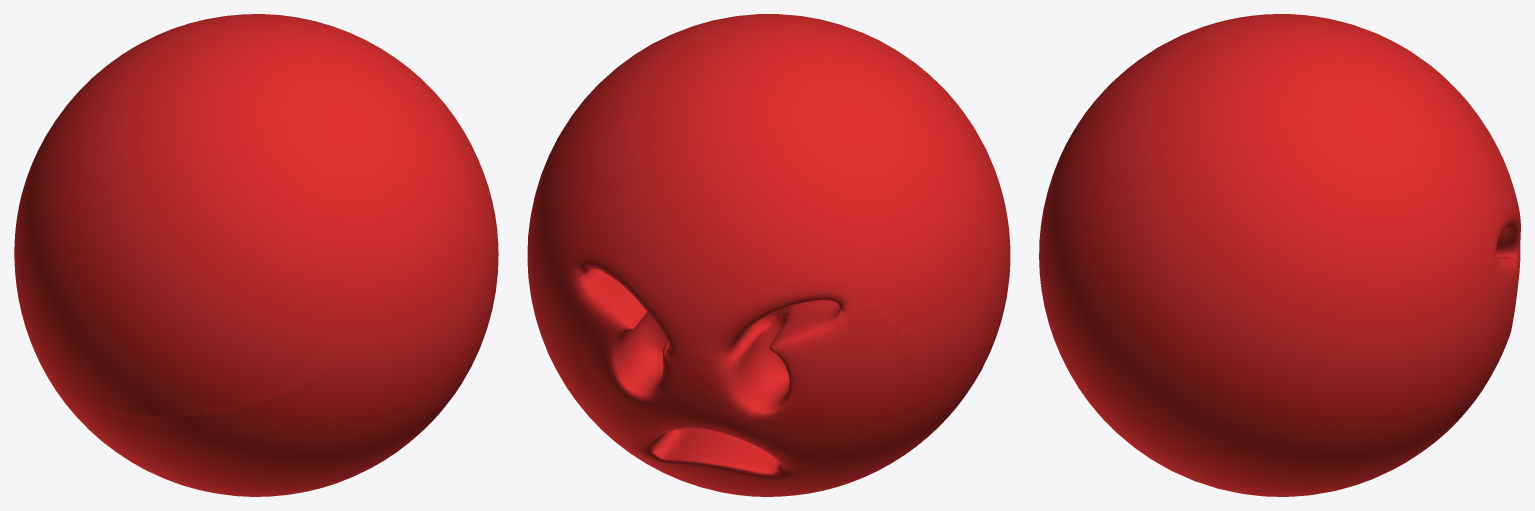
The model's file is rage 3DS.glb.
3 views of the same model, side by side, from view 1: azimuth 30°, elevation 25°; view 2: azimuth 150°, elevation 25°; view 3: azimuth 270°, elevation 25° (orthographic).
Visible parts, largest first — view 1: Group38430; view 2: Group38430; view 3: Group38430.
Part boxes in pixels (left/top/right/bottom): Group38430: left=14, top=14, right=498, bottom=496; Group38430: left=527, top=14, right=1010, bottom=496; Group38430: left=1039, top=14, right=1520, bottom=496.
Size of the model in its own units: 0.5189 by 0.5183 by 0.5172.
